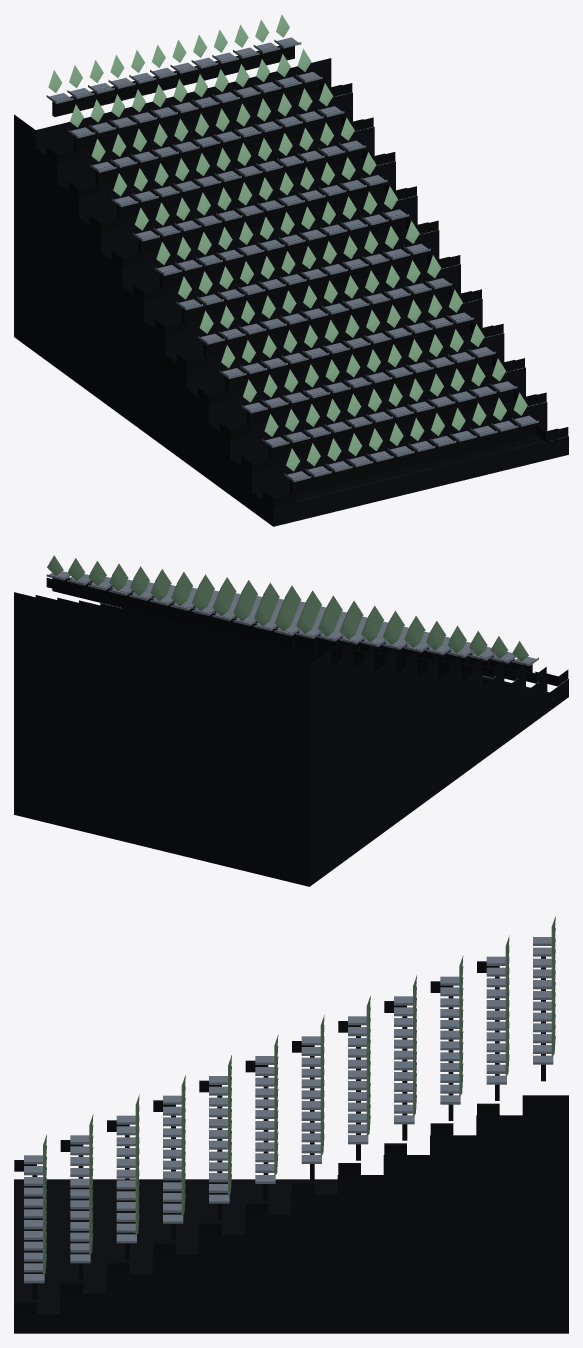
3 views of the same model, one above another, from view 1: azimuth 30°, elevation 25°; view 2: azimuth 150°, elevation 25°; view 3: azimuth 270°, elevation 25° (orthographic). The views are drawn at different scales.
Visible parts, largest first — view 1: Tier_Concrete, Seat_Beams, Seat_Backs, Seat_Pans, Aisle_Steps; view 2: Tier_Concrete, Seat_Backs, Seat_Beams, Seat_Pans, Aisle_Steps; view 3: Tier_Concrete, Seat_Pans, Seat_Backs, Aisle_Steps, Seat_Beams.
Part boxes in pixels (box(x1,y1,x2,y2)): Tier_Concrete: box(14, 58, 568, 526); Seat_Beams: box(52, 42, 532, 494); Seat_Backs: box(48, 14, 527, 471); Seat_Pans: box(46, 37, 538, 482); Aisle_Steps: box(46, 81, 568, 507); Tier_Concrete: box(14, 592, 568, 886); Seat_Backs: box(47, 555, 528, 661); Seat_Beams: box(52, 574, 532, 672); Seat_Pans: box(46, 571, 538, 666); Aisle_Steps: box(46, 578, 568, 686); Tier_Concrete: box(14, 1095, 568, 1333); Seat_Pans: box(24, 937, 553, 1283); Seat_Backs: box(43, 916, 555, 1275); Aisle_Steps: box(14, 961, 499, 1313); Seat_Beams: box(32, 956, 545, 1299).
Bounding box in the file's own units: 7.5 × 6.39 × 11.4.
4 materials, 3 textured.
